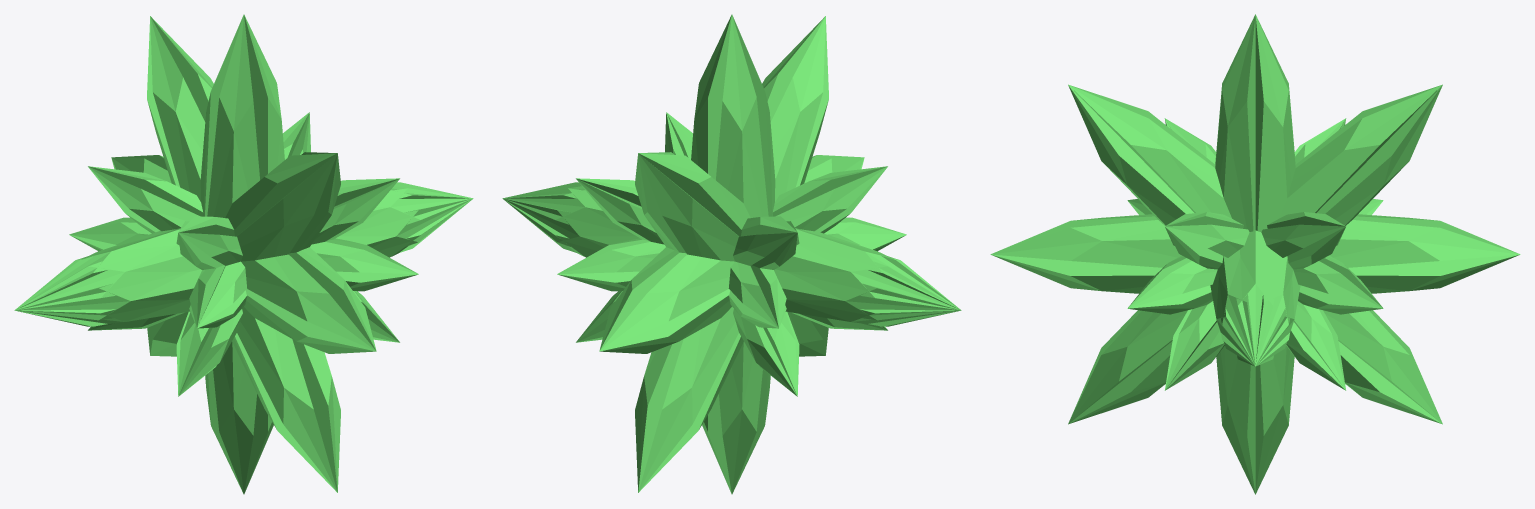
The model's file is Mine5.fbx.
3 renders of one model, left to right at view 1: azimuth 30°, elevation 25°; view 2: azimuth 150°, elevation 25°; view 3: azimuth 270°, elevation 25°, orthographic.
Visible parts, largest first — view 1: pPlatonic3 (×3), pPlatonic2 (×2), pPlatonic1, pPlatonic4 (×3), pPlatonic5 (×3); view 2: pPlatonic3 (×3), pPlatonic2 (×2), pPlatonic1, pPlatonic5 (×3), pPlatonic4 (×3); view 3: pPlatonic3 (×3), pPlatonic1, pPlatonic5 (×3), pPlatonic4 (×3), pPlatonic2 (×2).
Boxes of the visible parts, box(x1,y1,x2,y2) form: pPlatonic3 (×3): box(111, 16, 376, 492); pPlatonic2 (×2): box(14, 182, 473, 326); pPlatonic1: box(200, 14, 284, 494); pPlatonic4 (×3): box(69, 166, 418, 342); pPlatonic5 (×3): box(176, 112, 310, 396); pPlatonic3 (×3): box(599, 16, 864, 492); pPlatonic2 (×2): box(502, 182, 961, 326); pPlatonic1: box(691, 14, 775, 494); pPlatonic5 (×3): box(557, 166, 906, 342); pPlatonic4 (×3): box(665, 112, 799, 396); pPlatonic3 (×3): box(990, 84, 1520, 424); pPlatonic1: box(1215, 14, 1295, 494); pPlatonic5 (×3): box(1127, 118, 1383, 390); pPlatonic4 (×3): box(1127, 118, 1383, 390); pPlatonic2 (×2): box(1210, 230, 1300, 366).
Bounding box in the file's own units: 11.08 × 11.08 × 11.08.
